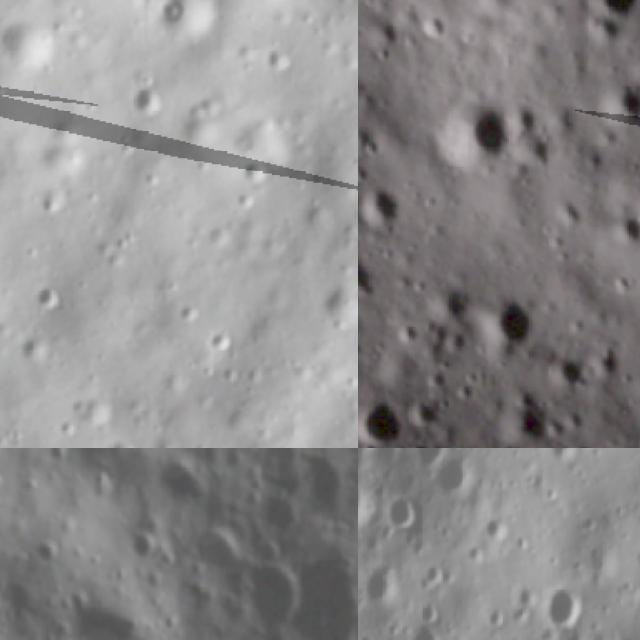crater: (277, 537, 358, 640), (436, 89, 524, 180), (236, 560, 302, 634), (492, 374, 556, 448), (125, 0, 222, 46), (478, 286, 540, 353), (295, 448, 355, 515), (0, 14, 60, 77), (73, 589, 147, 640), (531, 578, 587, 640), (190, 524, 248, 578), (428, 451, 482, 509), (358, 393, 409, 448), (383, 489, 431, 545), (358, 554, 406, 609), (315, 280, 358, 340), (596, 71, 640, 128), (358, 183, 405, 235), (584, 333, 627, 382), (159, 453, 202, 502), (122, 77, 171, 115), (579, 0, 640, 30), (409, 607, 456, 640), (263, 42, 302, 80), (401, 448, 452, 475), (128, 530, 164, 566), (611, 209, 640, 249), (358, 465, 377, 521), (37, 536, 61, 570), (488, 627, 541, 640), (545, 448, 585, 465), (561, 432, 601, 448), (102, 435, 144, 448)
